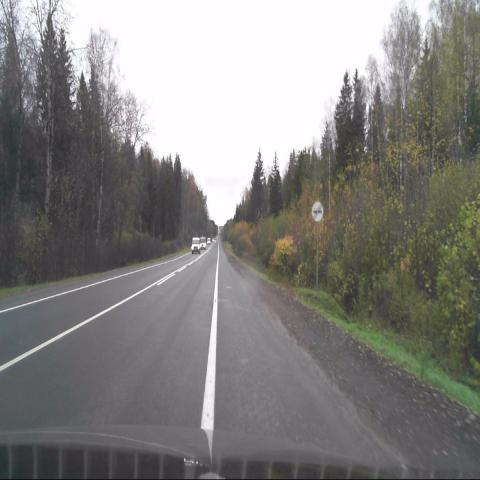3_21: (312, 201, 323, 222)
